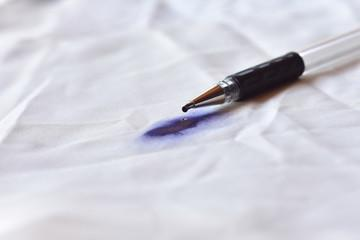gun: (139, 113, 211, 140)
